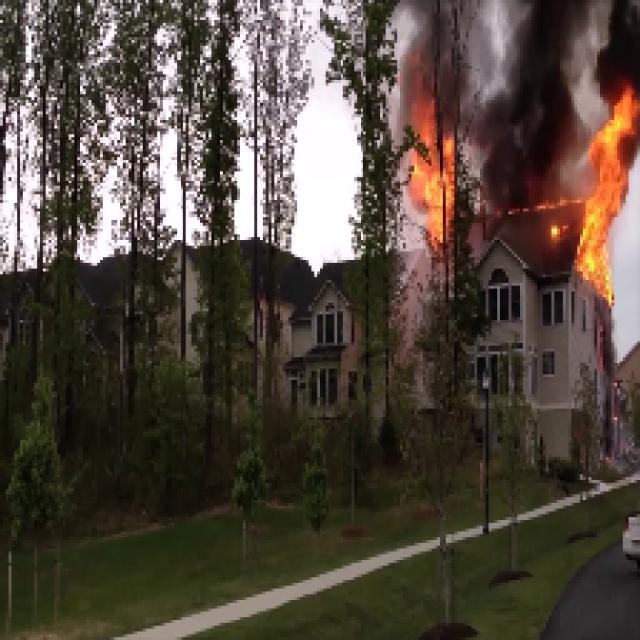fire: (585, 99, 625, 288), (408, 130, 456, 234)
smoke: (498, 0, 573, 190), (597, 4, 636, 74)
